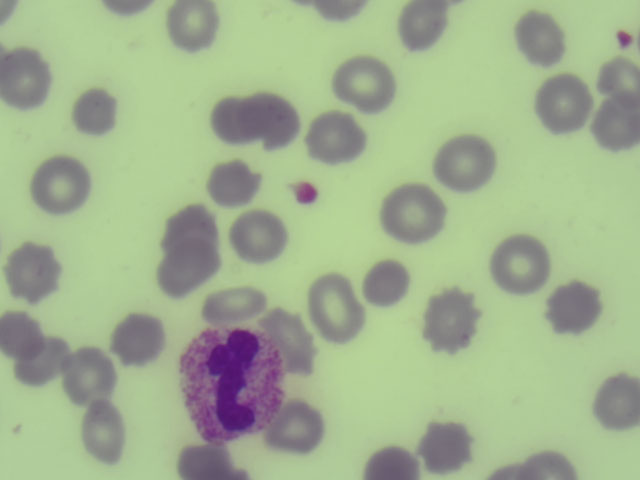Platelets: (294, 183, 318, 204), (617, 33, 630, 49)
RBC: (254, 302, 318, 373), (24, 156, 95, 219), (433, 132, 506, 192), (379, 180, 449, 242), (488, 227, 550, 295), (310, 273, 366, 342), (305, 110, 368, 171), (423, 286, 482, 351), (544, 279, 603, 344), (581, 369, 640, 434), (418, 409, 477, 474), (533, 74, 594, 133), (333, 58, 396, 111), (229, 207, 292, 260), (6, 240, 62, 299), (155, 244, 218, 296), (162, 1, 219, 57), (201, 283, 264, 332), (82, 399, 131, 462), (163, 197, 219, 252), (248, 90, 304, 145), (515, 8, 568, 66), (265, 397, 324, 448), (65, 345, 118, 401), (16, 329, 66, 386), (395, 1, 455, 48), (1, 48, 49, 106), (114, 311, 163, 367), (205, 159, 261, 208), (360, 256, 411, 308), (76, 87, 124, 142), (1, 303, 48, 358), (180, 446, 253, 480), (592, 97, 640, 147), (593, 57, 640, 98), (366, 446, 422, 480), (481, 446, 537, 480), (528, 446, 584, 480), (212, 97, 249, 147), (315, 1, 364, 26)
WBC: (177, 328, 292, 441)
